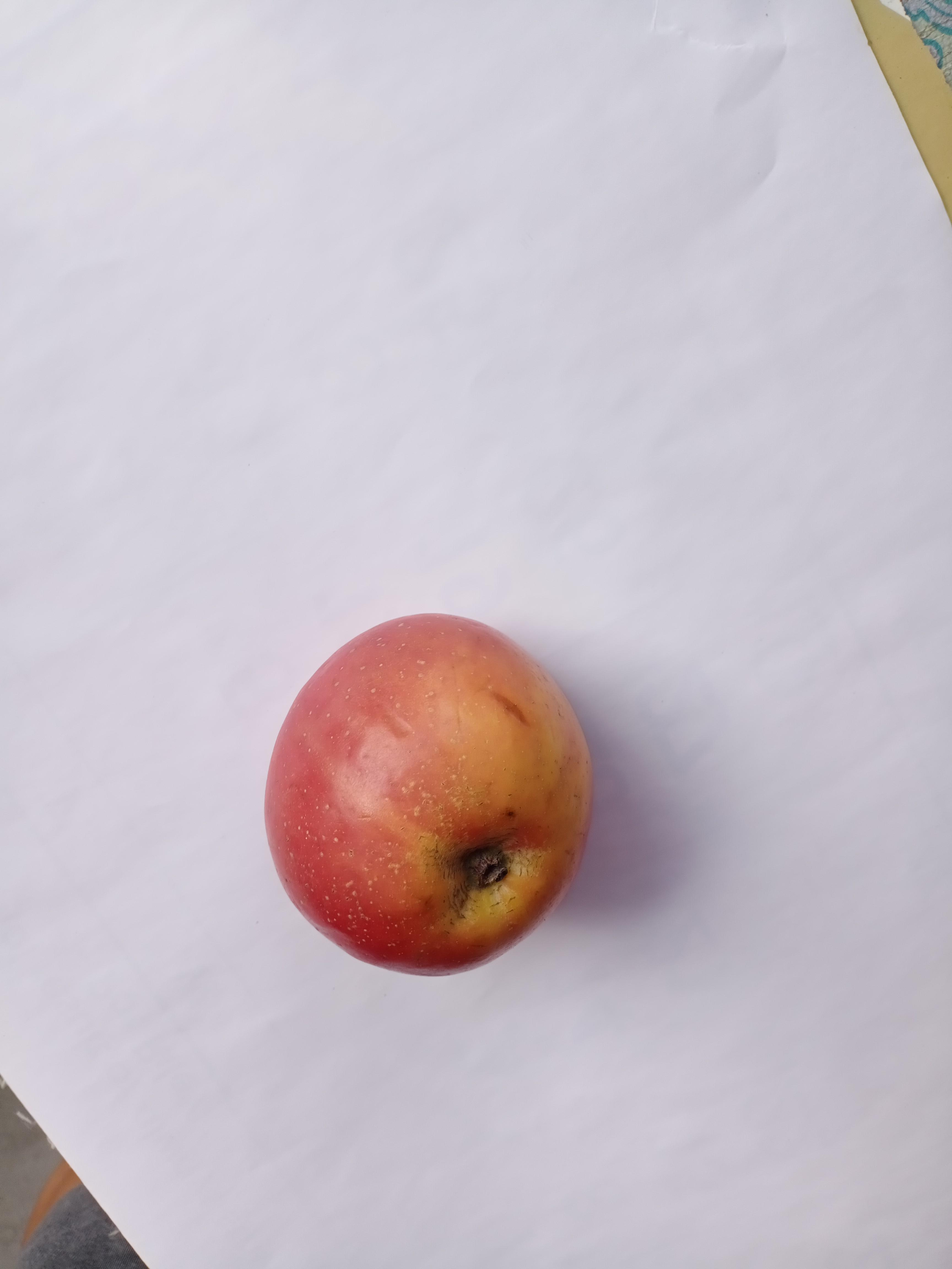Apple Ripe: (259, 600, 614, 1011)
